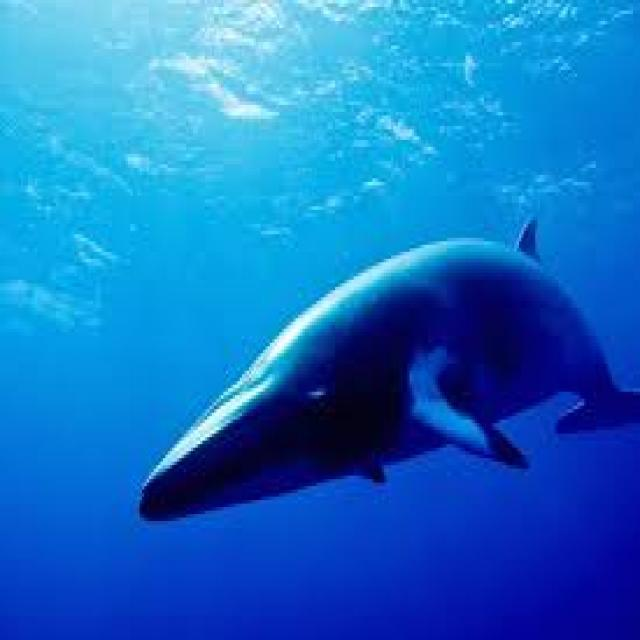blue_whale: (74, 182, 640, 616)
